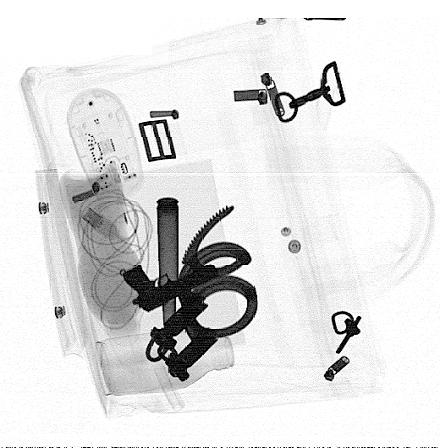Bullet: (157, 197, 179, 348)
Gun: (121, 262, 221, 312)
HandCuffs: (144, 202, 261, 385)
